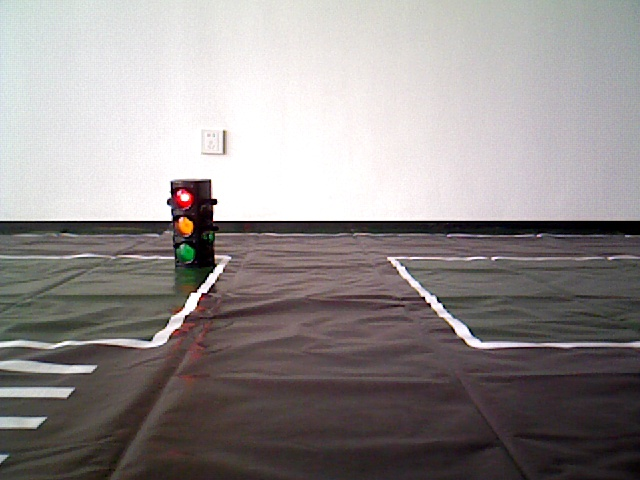red: (174, 182, 211, 268)
